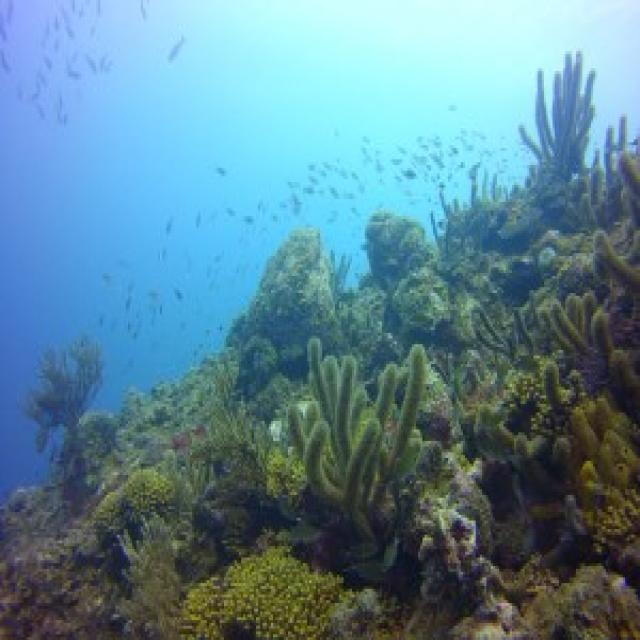Healthy: (174, 448, 639, 638), (150, 371, 304, 581), (227, 229, 394, 413), (289, 342, 426, 539), (477, 359, 639, 499), (59, 371, 212, 496), (1, 485, 125, 638), (545, 362, 639, 547), (368, 211, 487, 351), (180, 547, 353, 638), (519, 52, 594, 172), (477, 291, 611, 357), (27, 339, 101, 450), (120, 522, 182, 638), (447, 192, 549, 251), (99, 467, 176, 541)
